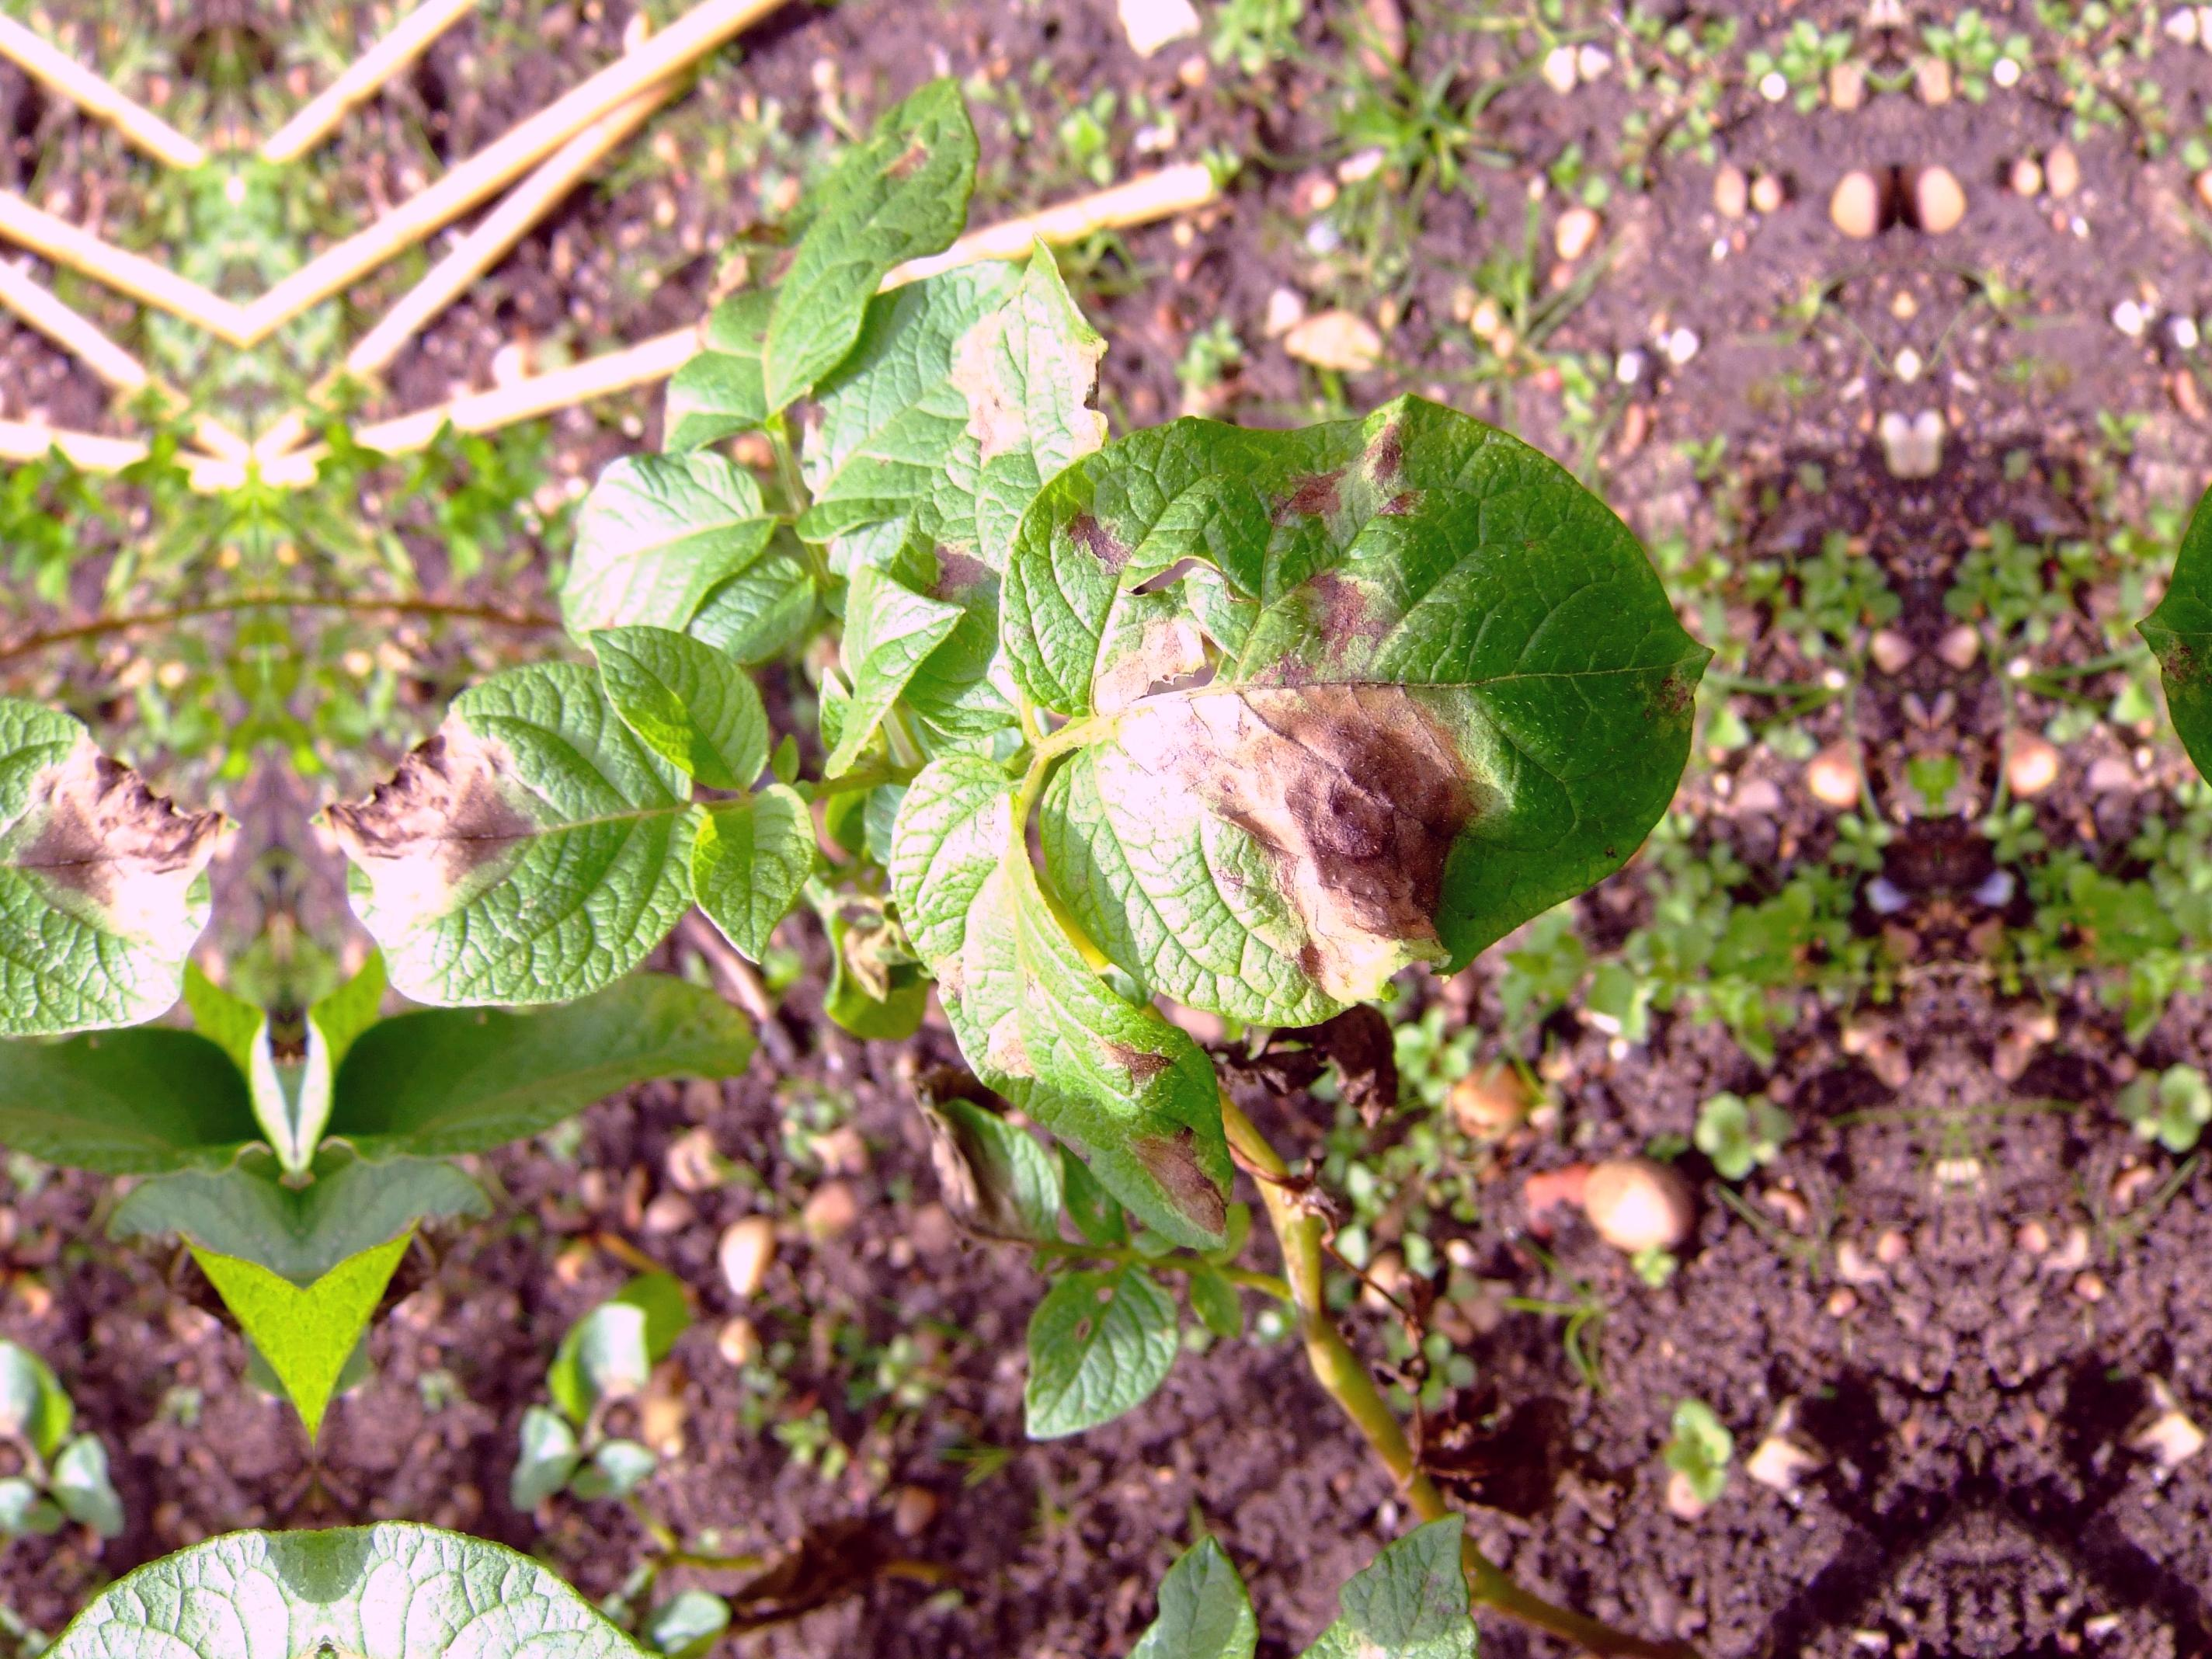Tomato leaf late blight: (991, 346, 1696, 1042)
